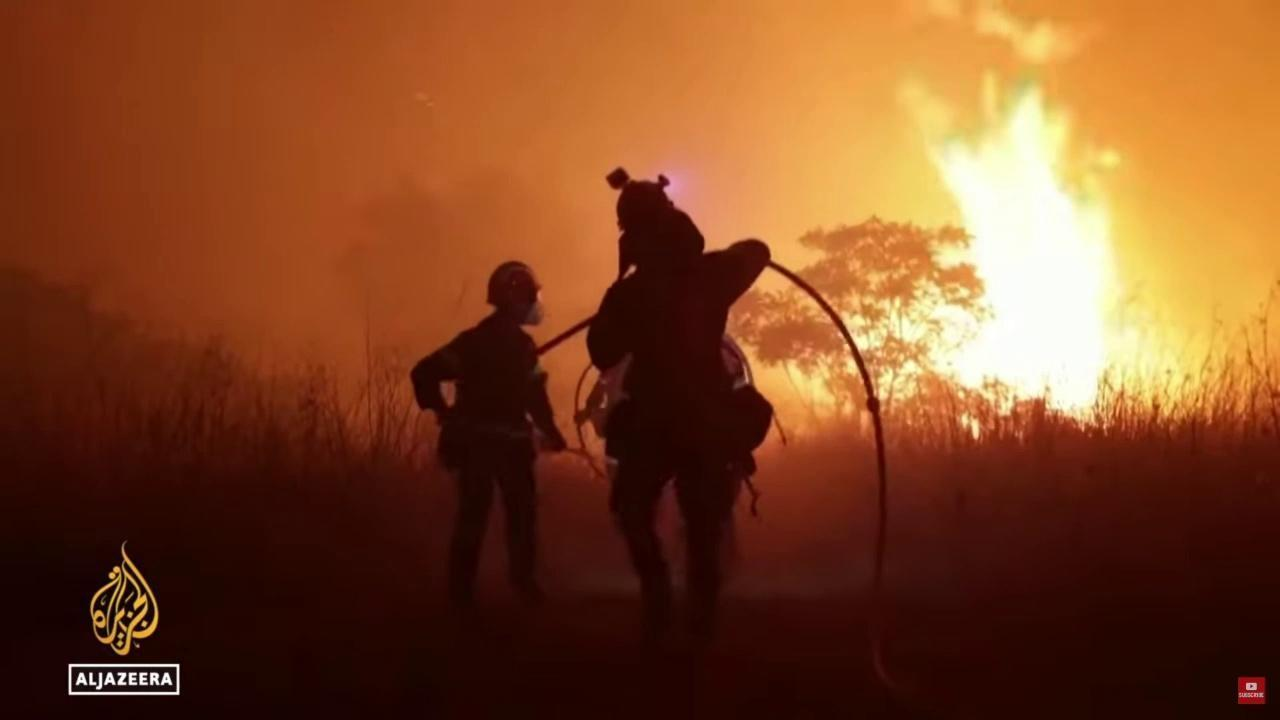fire: (779, 64, 1132, 440)
smoke: (0, 0, 1280, 607)
